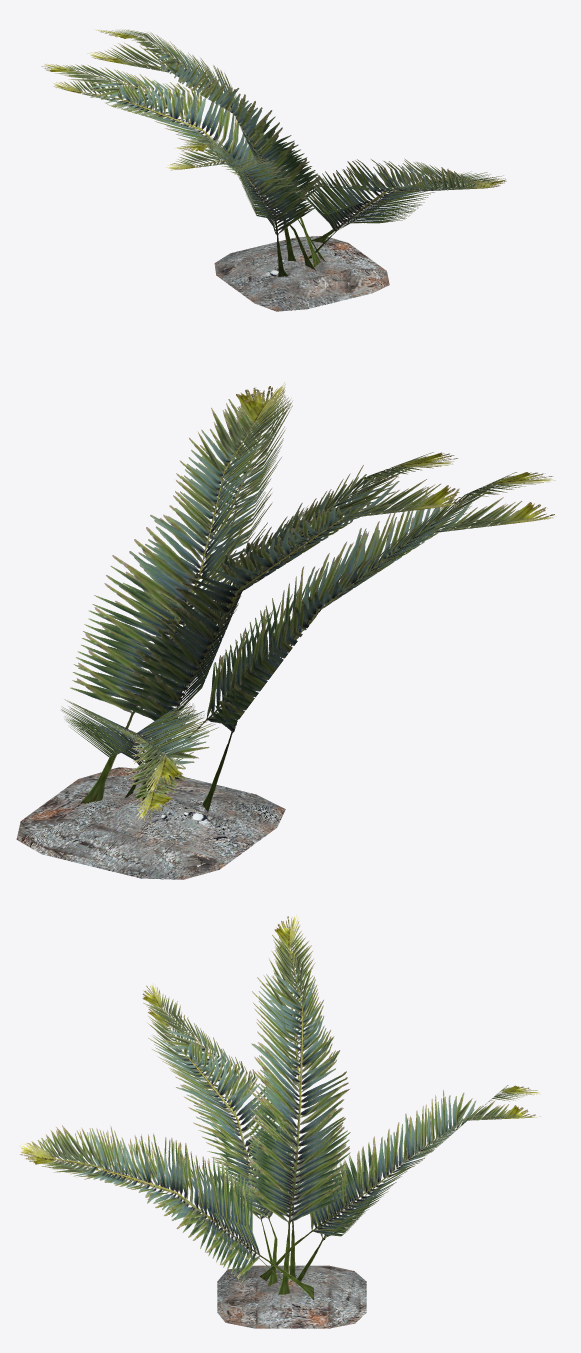
File: NipaPlant_01.DAE
3 views of the same model, one above another, from view 1: azimuth 30°, elevation 25°; view 2: azimuth 150°, elevation 25°; view 3: azimuth 270°, elevation 25° (orthographic). The views are drawn at different scales.
Visible parts, largest first — view 1: NipaPlant300, NipaPlant150; view 2: NipaPlant300, NipaPlant150; view 3: NipaPlant300, NipaPlant150.
Part boxes in pixels (bbox=[...]): NipaPlant300: bbox=[53, 42, 506, 311]; NipaPlant150: bbox=[41, 29, 499, 288]; NipaPlant300: bbox=[16, 382, 554, 879]; NipaPlant150: bbox=[64, 387, 555, 879]; NipaPlant300: bbox=[19, 938, 540, 1328]; NipaPlant150: bbox=[20, 915, 540, 1322].
Size of the model in its own units: 96.37 by 139 by 81.3.
